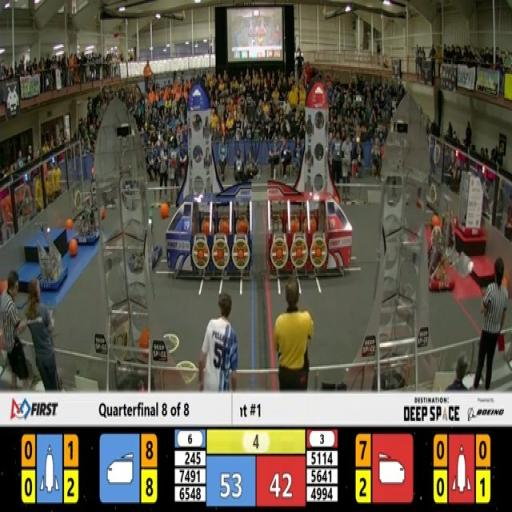robot: (416, 213, 456, 298), (456, 162, 489, 241), (70, 182, 102, 252), (32, 236, 70, 292)
